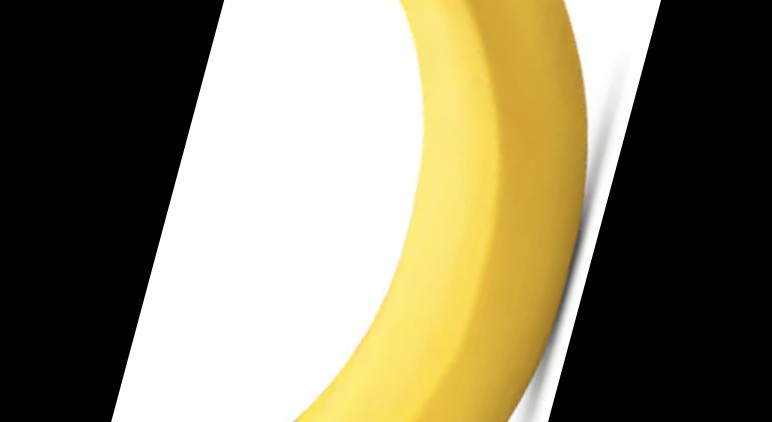fresh_banana: (291, 1, 589, 422)
